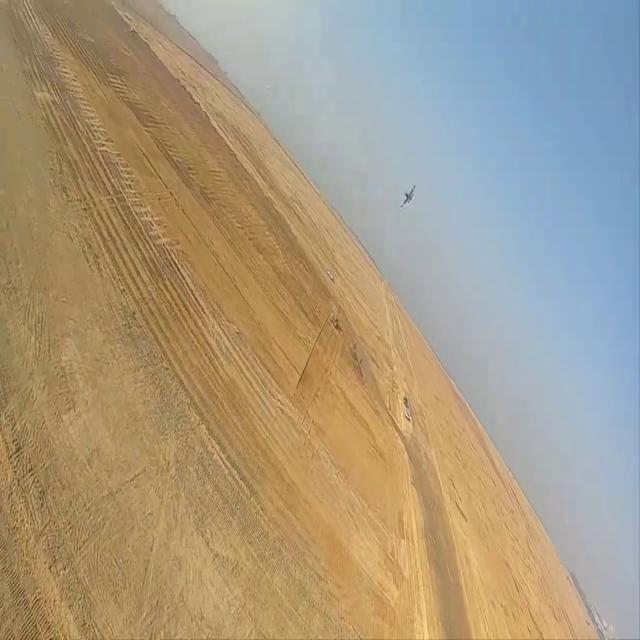iha: (395, 181, 420, 209)
